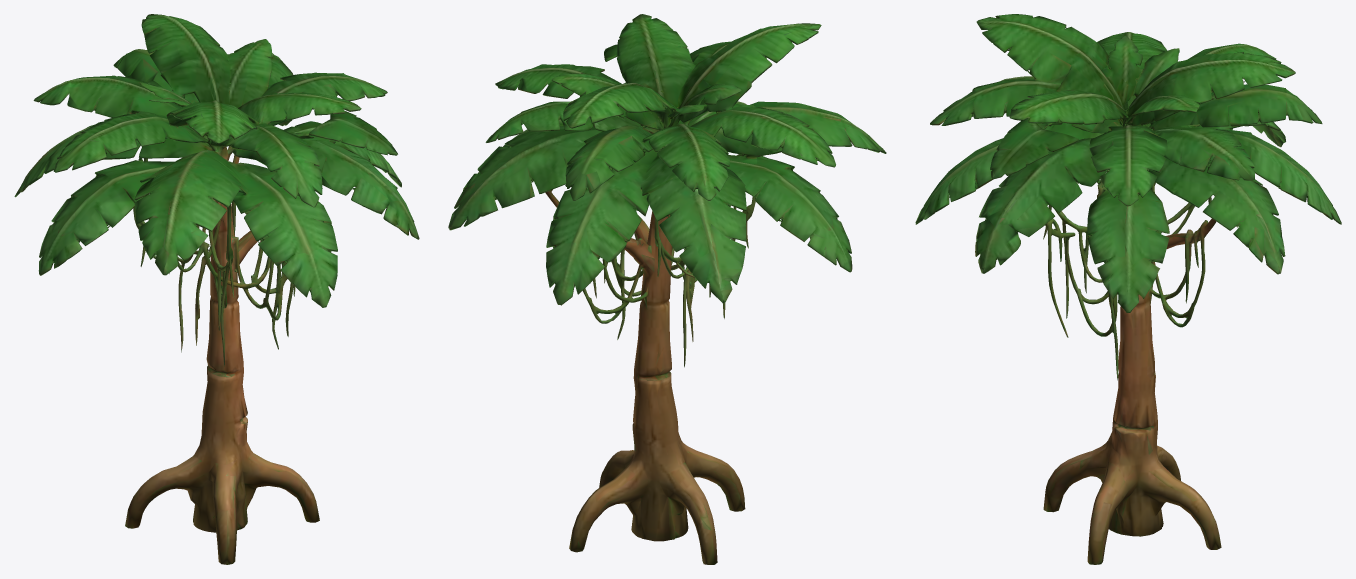
File: tree2.glb
The picture shows the model from 3 angles, left to right: view 1: azimuth 30°, elevation 25°; view 2: azimuth 150°, elevation 25°; view 3: azimuth 270°, elevation 25°; orthographic projection. The views are drawn at different scales.
Parts seen in each view (by area): view 1: Mesh_0; view 2: Mesh_0; view 3: Mesh_0.
Boxes of the visible parts, box(x1,y1,x2,y2) form: Mesh_0: box(14, 14, 419, 564); Mesh_0: box(448, 14, 886, 564); Mesh_0: box(915, 14, 1341, 564).
Bounding box in the file's own units: 1.55 × 1.9 × 1.55.
Materials: 1 (1 with a texture image).
